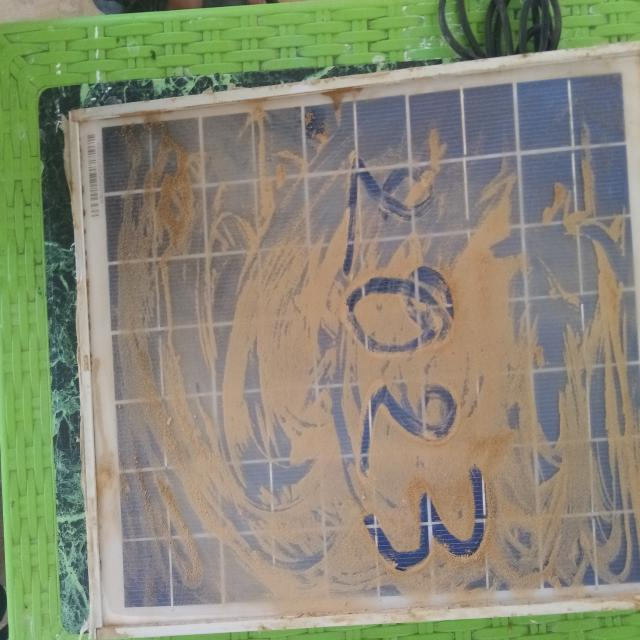faulty: (72, 45, 640, 640)
